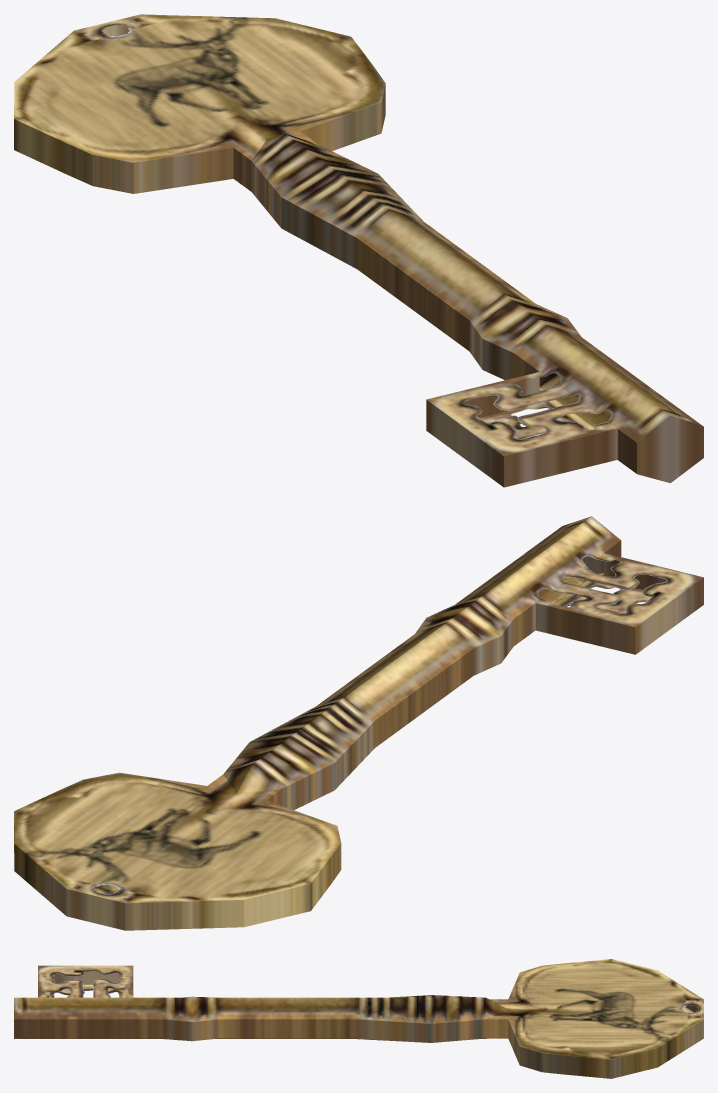
The model's file is key_a_deer.fbx.
The picture shows the model from 3 angles, top to bottom: view 1: azimuth 30°, elevation 25°; view 2: azimuth 150°, elevation 25°; view 3: azimuth 270°, elevation 25°; orthographic projection. The views are drawn at different scales.
Visible parts, largest first — view 1: key_a_deer; view 2: key_a_deer; view 3: key_a_deer.
Boxes of the visible parts, <box> form: key_a_deer: <box>14,14,703,487</box>; key_a_deer: <box>14,516,703,930</box>; key_a_deer: <box>14,959,703,1078</box>.
Bounding box in the file's own units: 7.38 × 1.42 × 21.36.
Materials: 1 (1 with a texture image).
